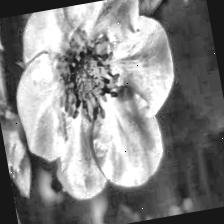Blossom Blight: (47, 22, 130, 129)
